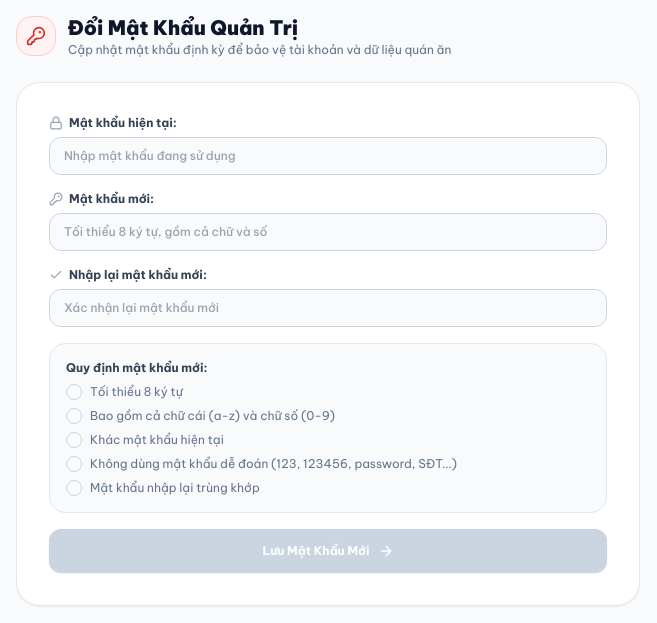
Sprint 9: ChangePassword Component (/admin/change-password) › updates policy checklist states and enables submit button only when valid
In the password field with test id "current-password-input": (328, 156) [49,137,607,175], type "oldPass123"
Note: Too short (6 chars)
In the password field with test id "new-password-input": (328, 232) [49,213,607,251], type "short1"
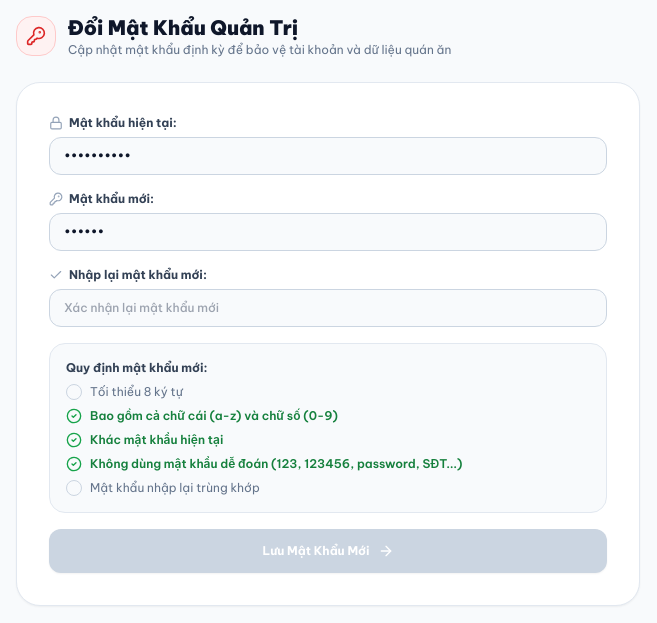
Expected: the button with test id "change-password-submit-btn" is disabled, [49,529,607,573]
Note: 8 chars but only numbers
In the password field with test id "new-password-input": (328, 232) [49,213,607,251], type "12345678"
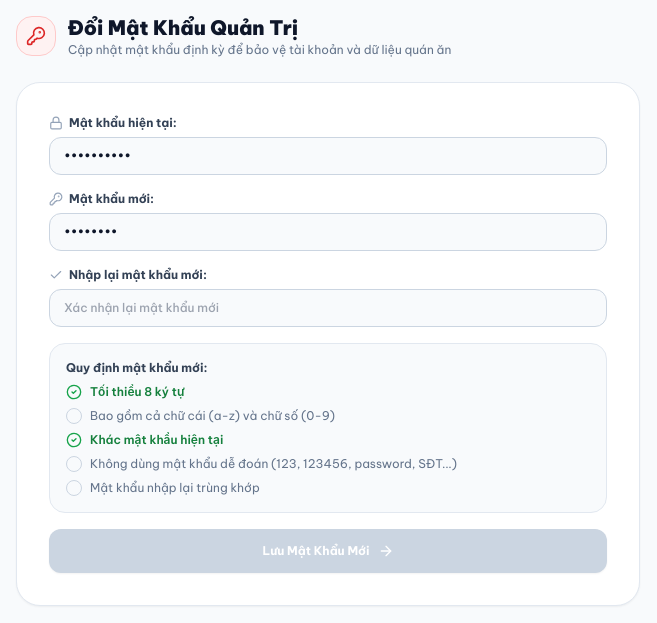
Expected: the button with test id "change-password-submit-btn" is disabled, [49,529,607,573]
Now the element with test id "policy-letter-number" does not have class "text-green-700", box [66,408,335,424]
Note: Same as current password
In the password field with test id "new-password-input": (328, 232) [49,213,607,251], type "oldPass123"
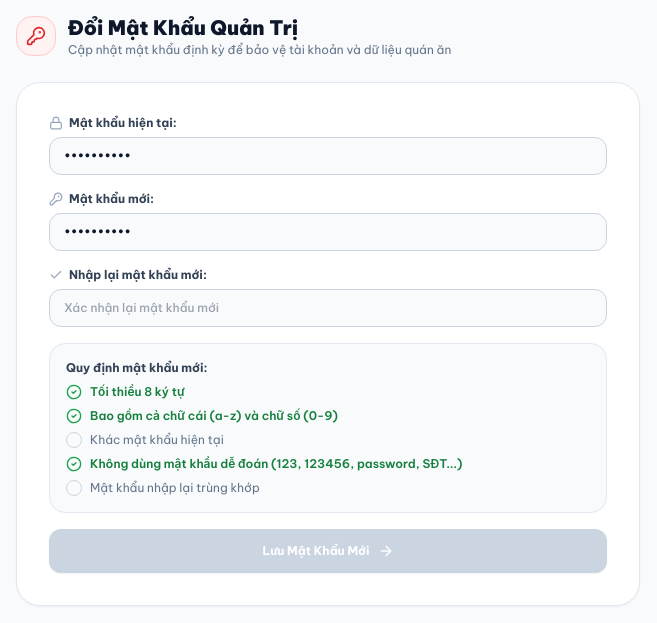
Expected: the button with test id "change-password-submit-btn" is disabled, [49,529,607,573]
Now the element with test id "policy-different-old" does not have class "text-green-700", box [66,432,224,448]
Note: Valid new password with letters and digits
In the password field with test id "new-password-input": (328, 232) [49,213,607,251], type "SecurePass2026"
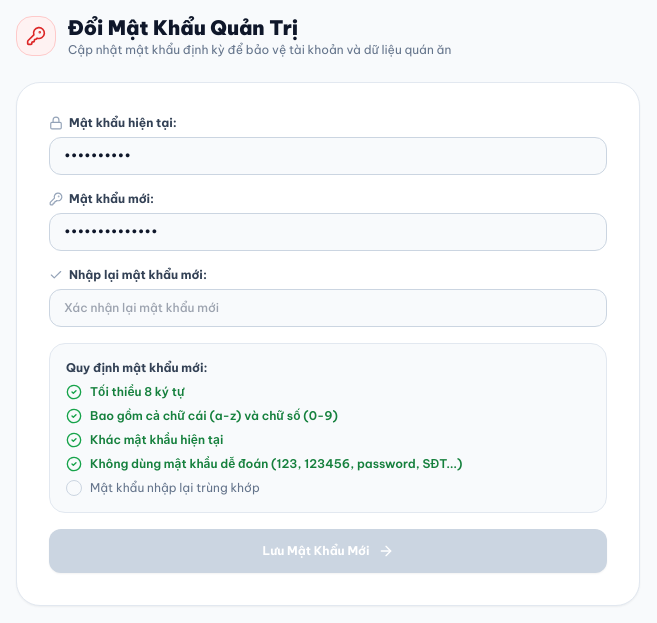
Now the element with test id "policy-min-length" has class "text-green-700", box [66,384,185,400]
Now the element with test id "policy-letter-number" has class "text-green-700", box [66,408,338,424]
Now the element with test id "policy-different-old" has class "text-green-700", box [66,432,223,448]
Note: Confirm doesn't match yet
In the password field with test id "confirm-password-input": (328, 308) [49,289,607,327], type "DifferentPass"
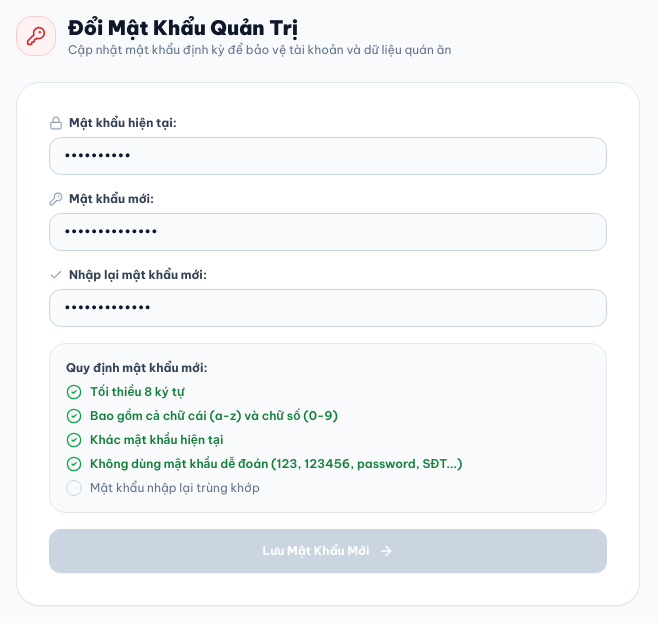
Expected: the button with test id "change-password-submit-btn" is disabled, [49,529,607,573]
Note: Matching confirm password
In the password field with test id "confirm-password-input": (328, 308) [49,289,607,327], type "SecurePass2026"
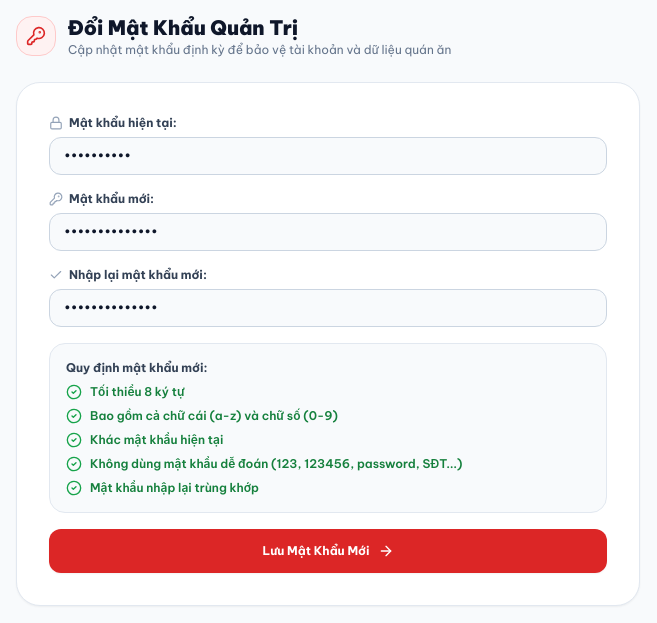
Now the button with test id "change-password-submit-btn" is enabled, box [49,529,607,573]
